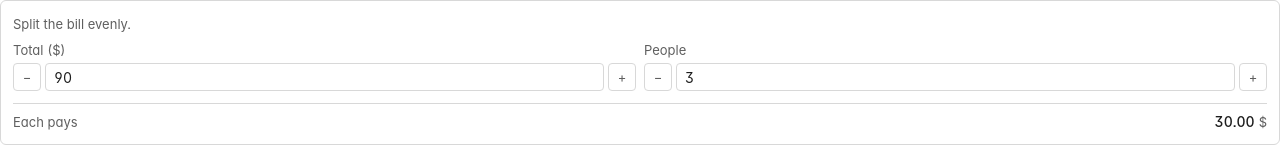
UiCalculator (interactive catalog) › recomputes live on every keystroke
The width and height of the screenshot is (1280, 162).
Replace the text in the number field named "Total ($)" with "120" at coordinates (324, 77), box [45,63,604,91]
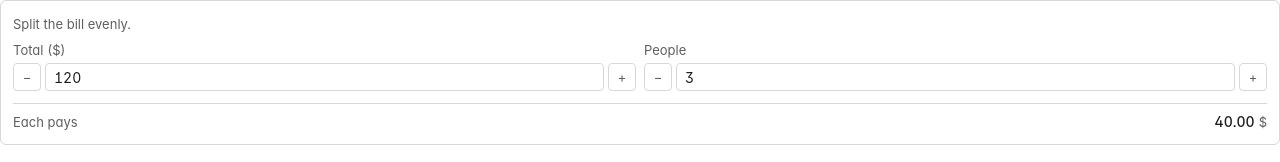
Now the text "40.00" is shown, box [1215,113,1255,130]
Replace the text in the number field named "Total ($)" with "120.5" at coordinates (324, 77), box [45,63,604,91]
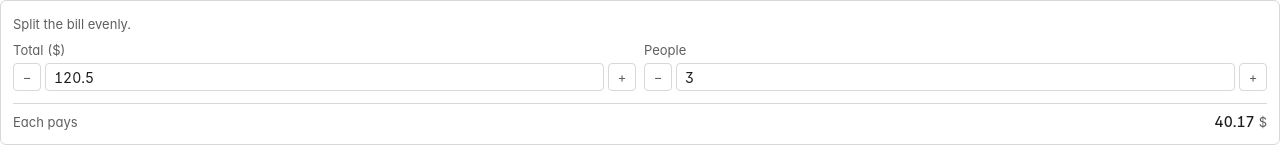
Now the text "40.17" is shown, box [1215,113,1255,130]
